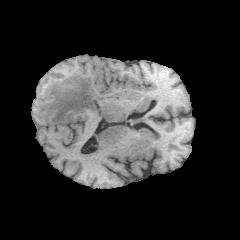glioma: (38, 72, 119, 122)
